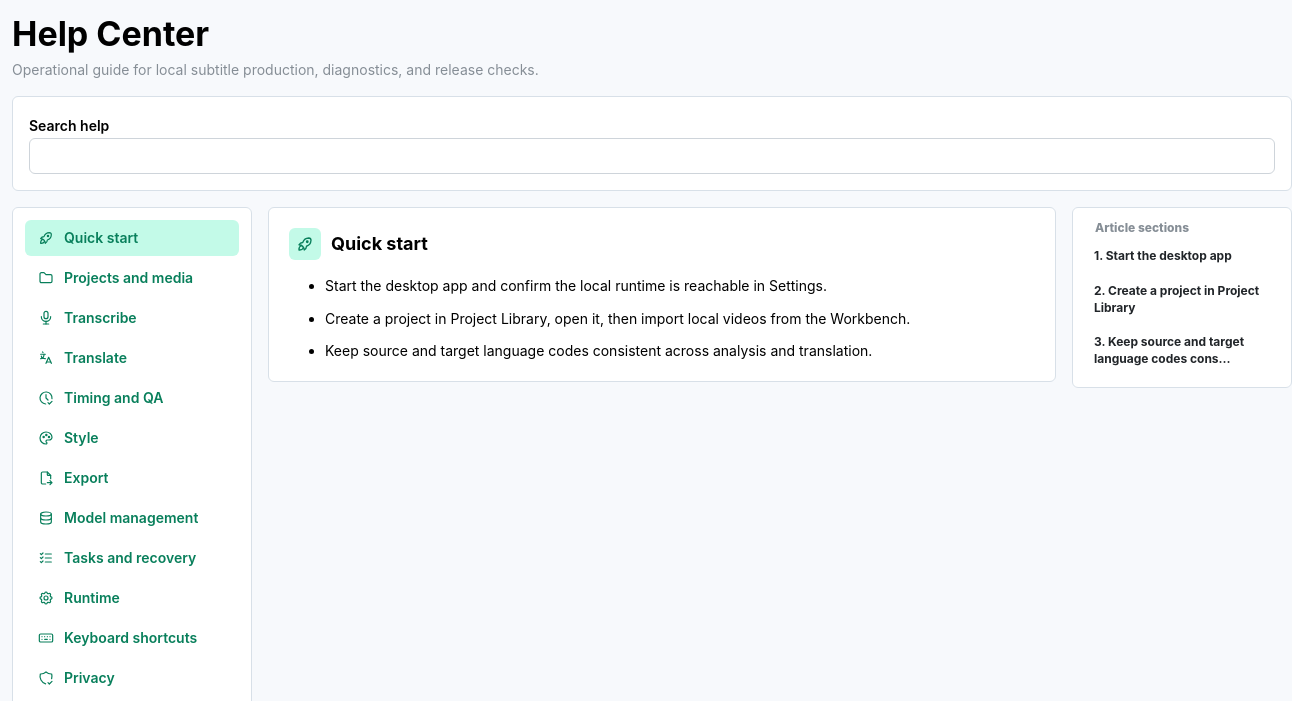
HelpPage › filters help topics and opens the matching article
Type "checksum" into the search field labelled "Search help".
click(652, 156); type("checksum")  # box x1=29 y1=138 x2=1275 y2=174
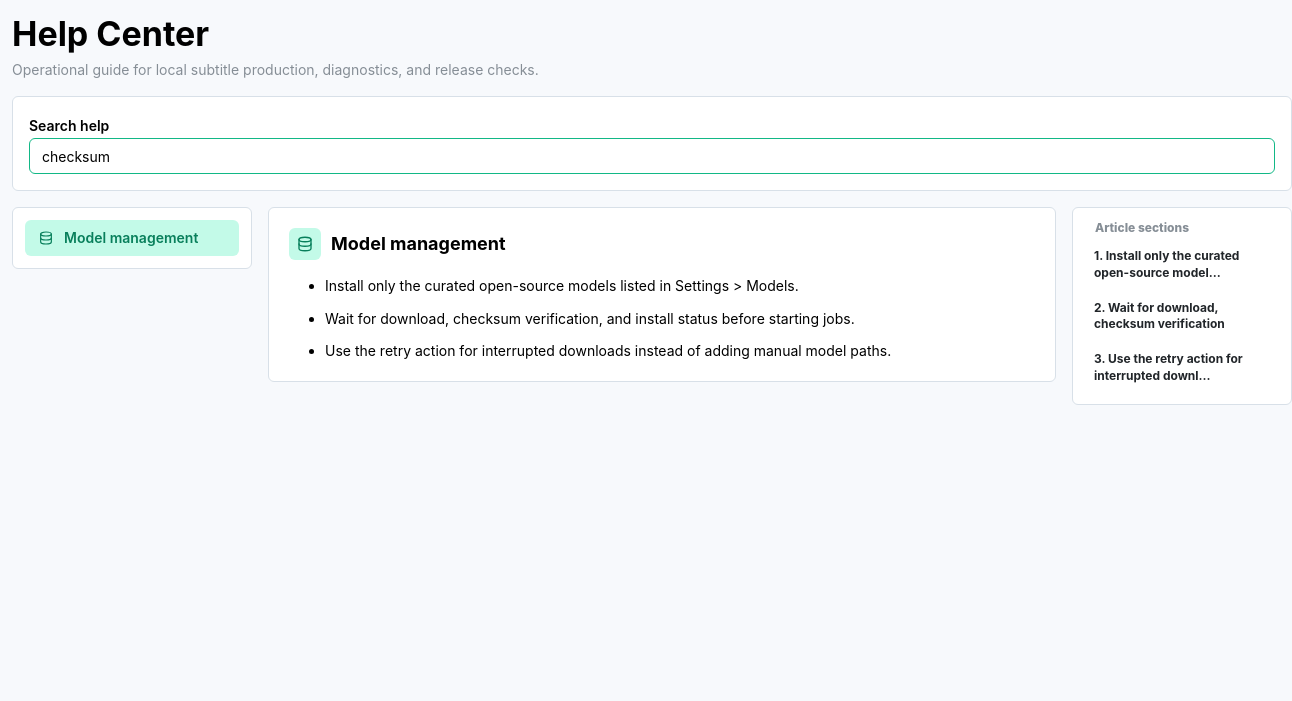
Expected: the button "Quick start" is gone
Expected: the element "Model management" is shown, x1=268 y1=207 x2=1056 y2=382
Expected: the text "Install only the curated open-source models listed in Settings > Models." is shown, x1=325 y1=276 x2=799 y2=297
